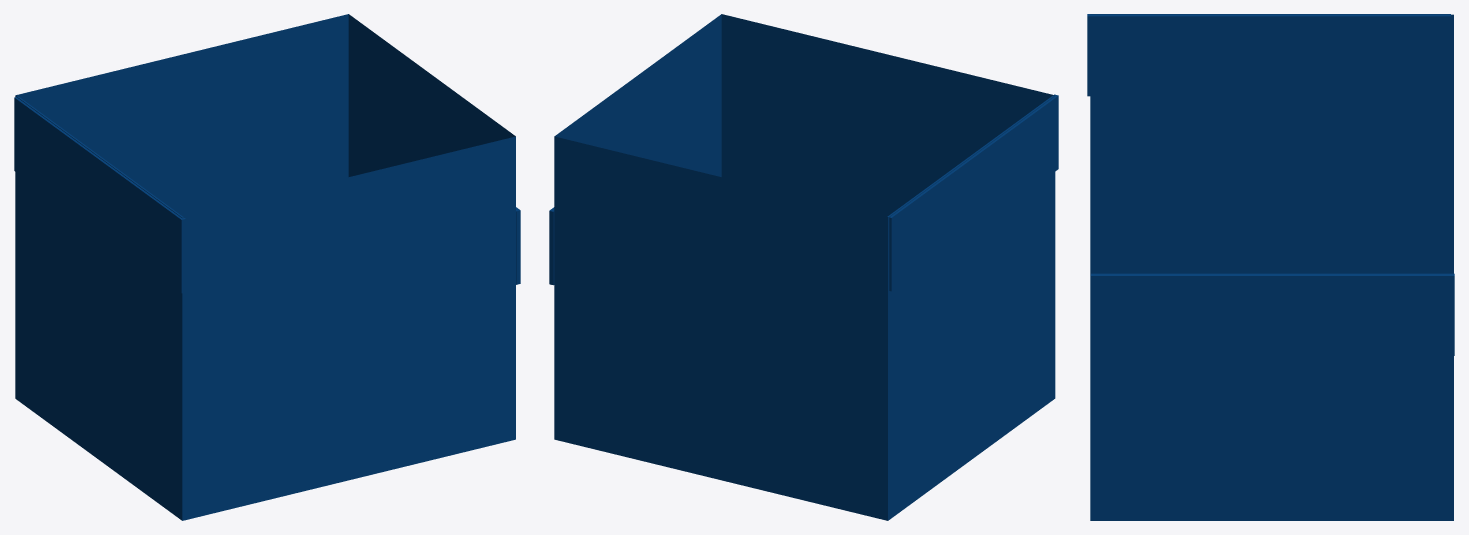
The model's file is 수납함1_export.FBX.
The picture shows the model from 3 angles, left to right: view 1: azimuth 30°, elevation 25°; view 2: azimuth 150°, elevation 25°; view 3: azimuth 270°, elevation 25°; orthographic projection. The views are drawn at different scales.
Visible parts, largest first — view 1: Box001, Box002; view 2: Box001, Box002; view 3: Box001, Box002, Box003.
Part boxes in pixels (bbox=[...]): Box001: bbox=[15, 14, 515, 520]; Box002: bbox=[14, 96, 185, 293]; Box001: bbox=[554, 14, 1055, 520]; Box002: bbox=[887, 94, 1058, 291]; Box001: bbox=[1090, 14, 1453, 520]; Box002: bbox=[1087, 14, 1450, 96]; Box003: bbox=[1091, 273, 1454, 355].
Size of the model in its own units: 38.81 by 33 by 33.33.
